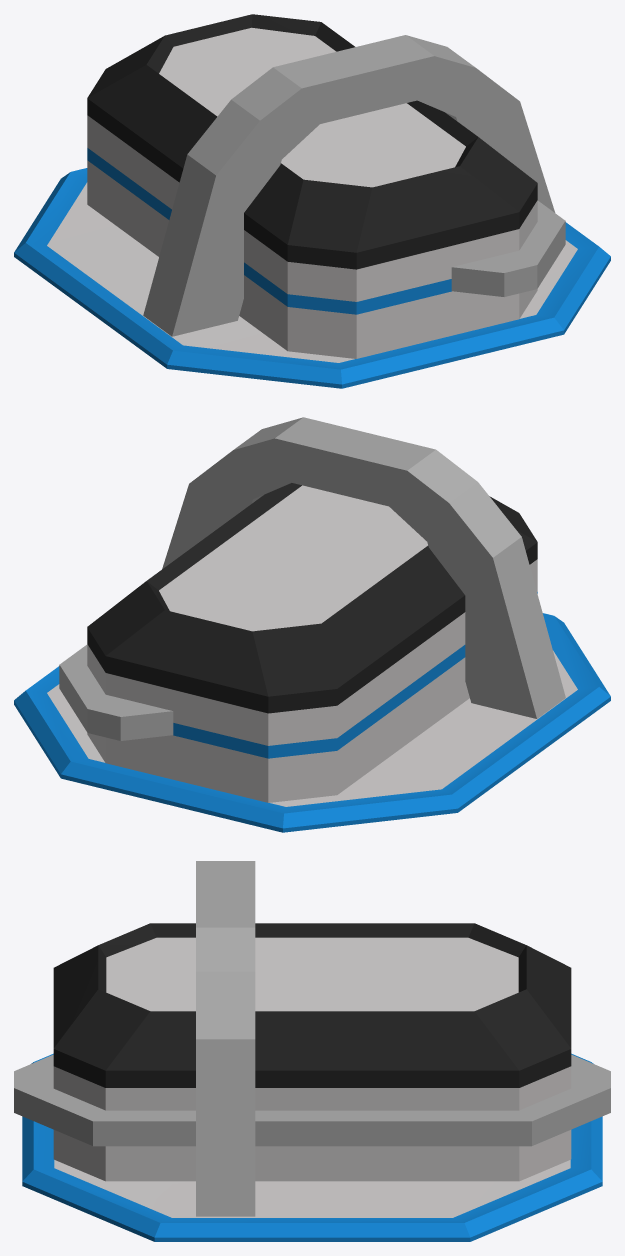
File: Relay.fbx
The picture shows the model from 3 angles, top to bottom: view 1: azimuth 30°, elevation 25°; view 2: azimuth 150°, elevation 25°; view 3: azimuth 270°, elevation 25°; orthographic projection. The views are drawn at different scales.
Parts seen in each view (by area): view 1: Core, L1, Base, L2; view 2: Core, L1, Base, L2; view 3: Core, Base, L2, L1.
Boxes of the visible parts, bbox=[...] form: Core: bbox=[87, 14, 537, 358]; L1: bbox=[143, 35, 555, 336]; Base: bbox=[14, 168, 610, 388]; L2: bbox=[451, 200, 565, 296]; Core: bbox=[87, 483, 537, 802]; L1: bbox=[162, 417, 565, 718]; Base: bbox=[14, 613, 610, 832]; L2: bbox=[59, 644, 173, 740]; Core: bbox=[53, 923, 571, 1181]; Base: bbox=[22, 1053, 602, 1241]; L2: bbox=[14, 1054, 610, 1146]; L1: bbox=[196, 861, 255, 1216].
Bounding box in the file's own units: 8.14 × 4 × 9.19.
